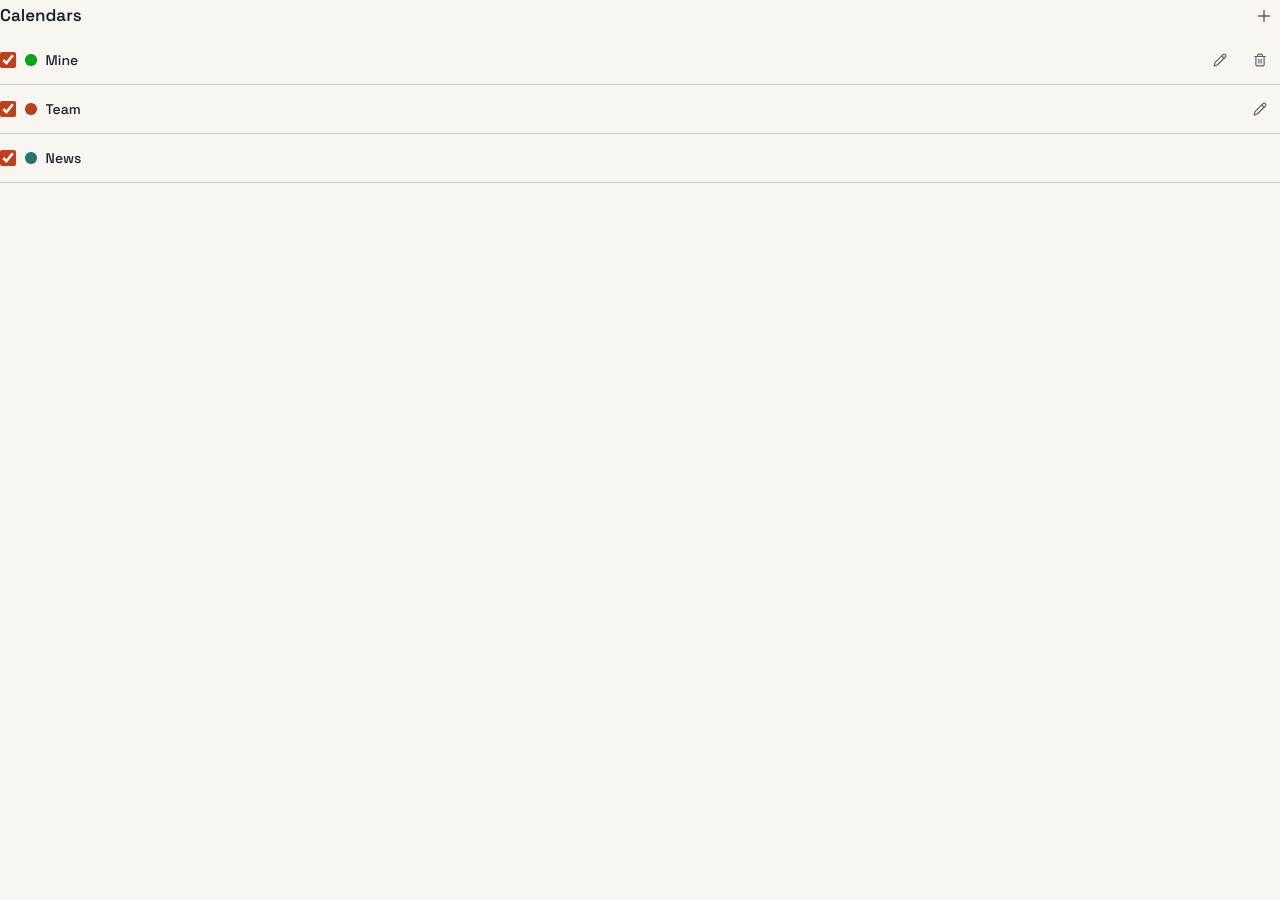
Test case: CalendarSidebar › adds through one + menu that opens a dialog, and returns focus to the + on cancel
Click the button named "Add a calendar" at (1264, 16), box top-left (1248, 0), bottom-right (1279, 32)
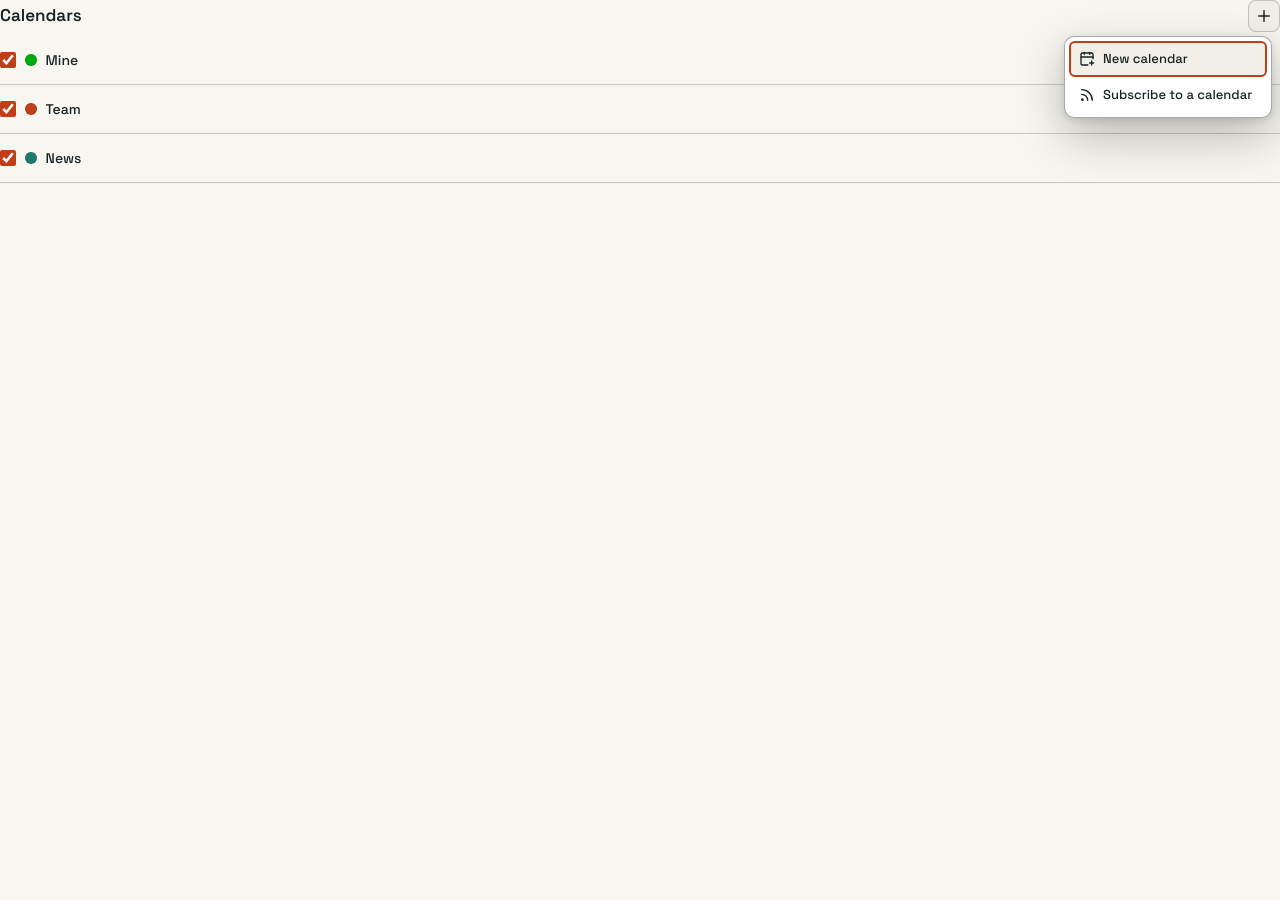
Expected: the menu items read "New calendar", "Subscribe to a calendar", in this order
Click the menu item "New calendar" at (1168, 59), box top-left (1069, 41), bottom-right (1267, 77)
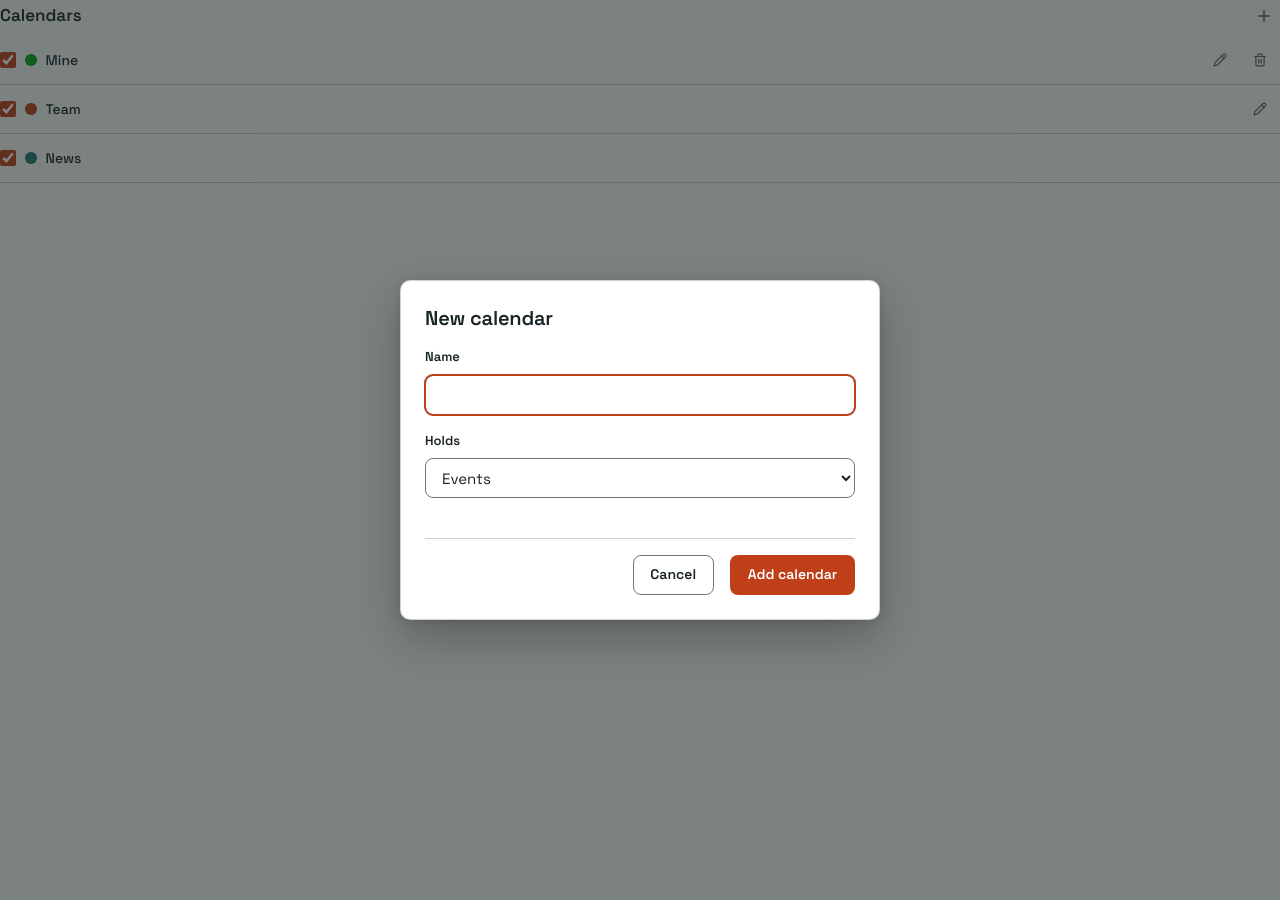
Click the button "Cancel" at (673, 575), box top-left (632, 555), bottom-right (714, 595)
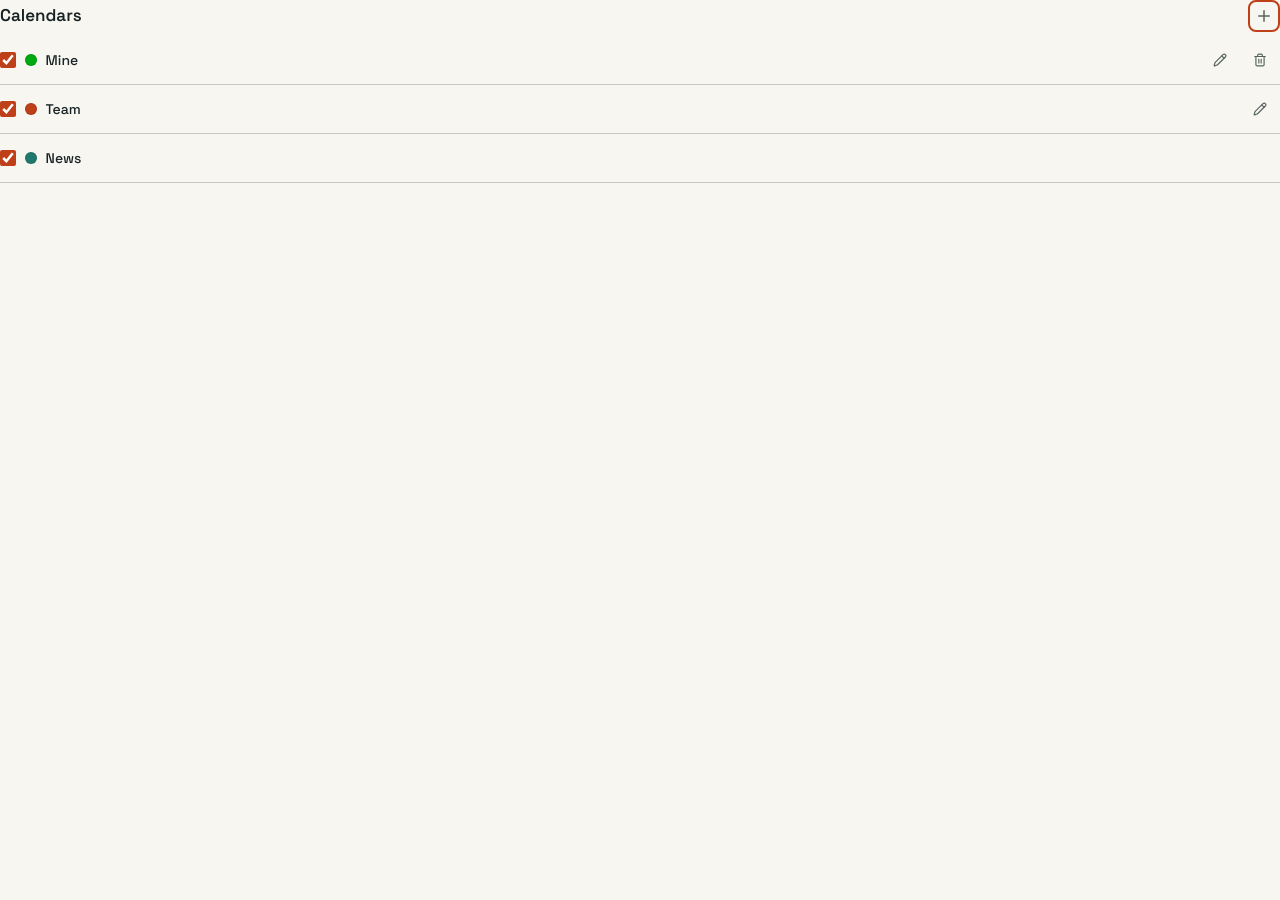
Expected: the dialog is gone
